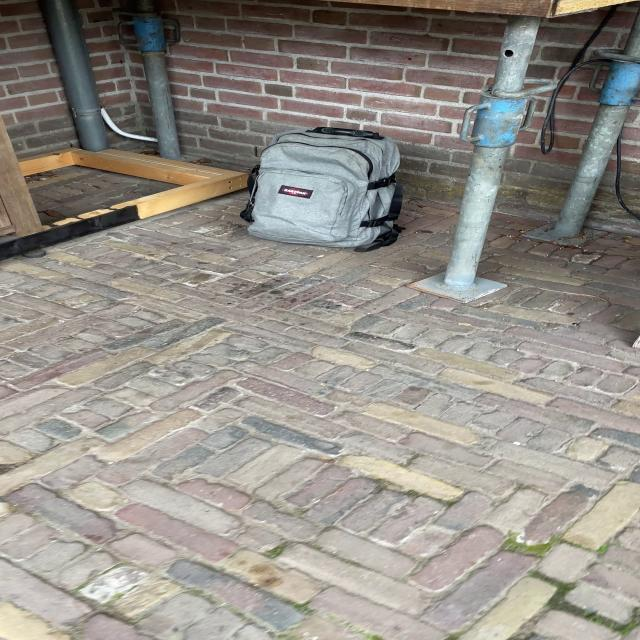backpack: (235, 120, 411, 253)
